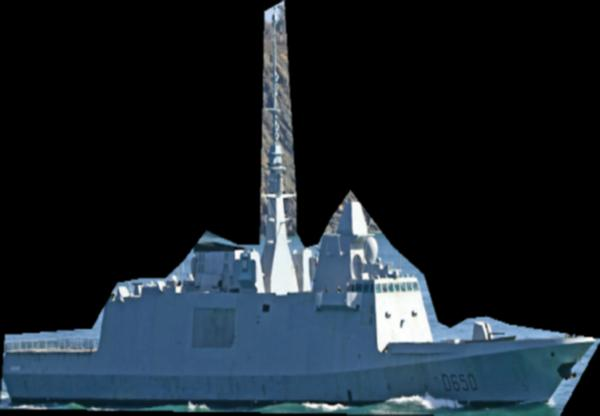DDG: (0, 0, 600, 416)
